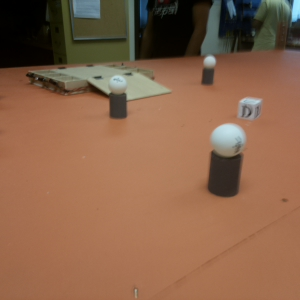obstacle: (210, 123, 241, 198), (110, 76, 126, 118), (203, 55, 215, 84)
side: (22, 71, 71, 97)
slope: (88, 76, 171, 98)
